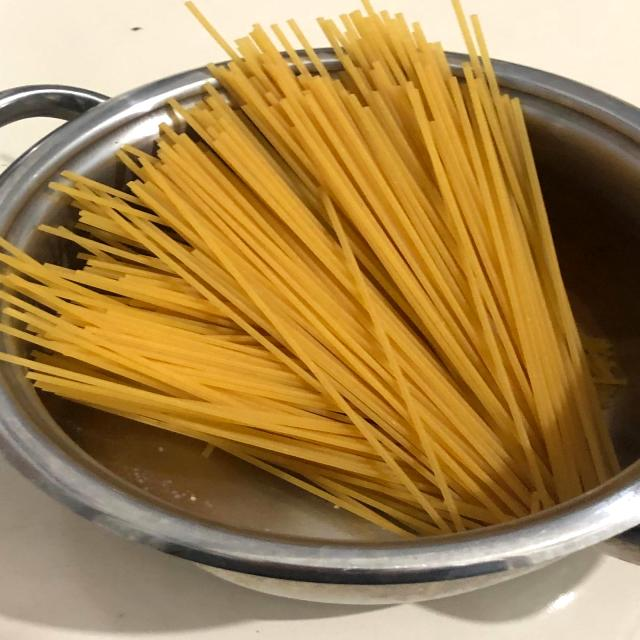spaghetti: (0, 0, 631, 548)
